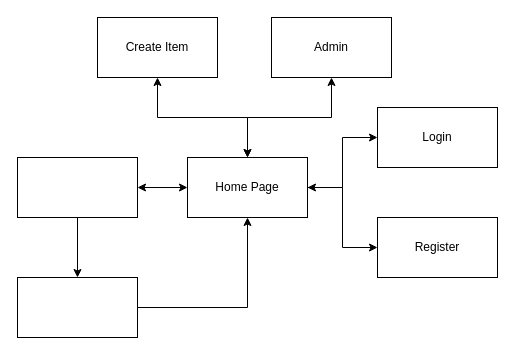
Some shapes in this 515 by 355 pixel diagram are drawn without their labels. The shapes that lost their labels are listed below. From the top down, each one's centre as x and y in pixels, then its label:
At [77,187]: "Cart".
At [77,307]: "Check Out".
